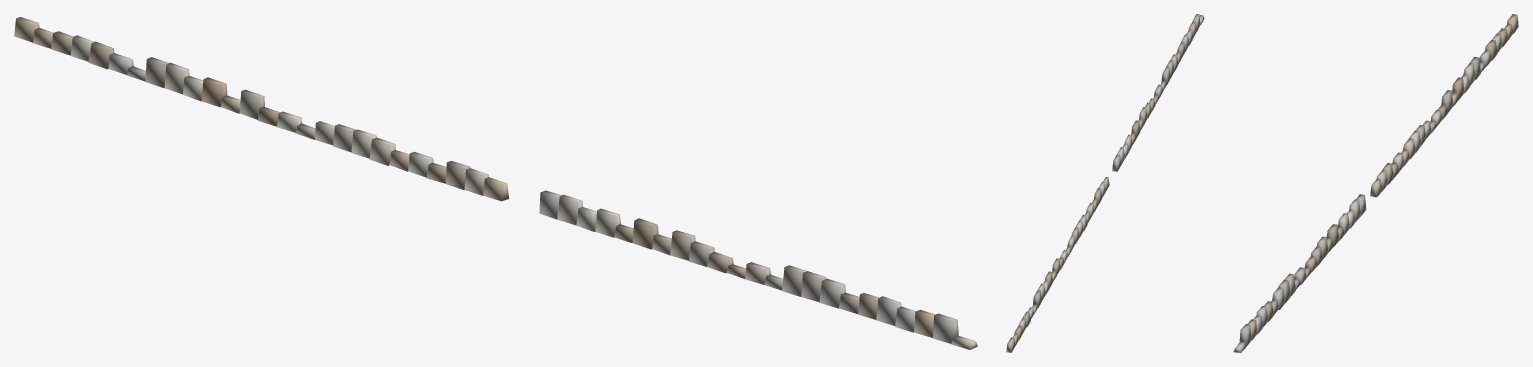
File: farm_-18_-28_far.glb
3 renders of one model, left to right at view 1: azimuth 30°, elevation 25°; view 2: azimuth 150°, elevation 25°; view 3: azimuth 330°, elevation 25°, orthographic. The views are drawn at different scales.
Visible parts, largest first — view 1: geometry_0; view 2: geometry_0; view 3: geometry_0.
Part boxes in pixels (x1,y1,x2,y2): geometry_0: [14, 17, 977, 349]; geometry_0: [1006, 14, 1204, 352]; geometry_0: [1233, 14, 1518, 352].
Size of the model in its own units: 20.03 by 8.32 by 79.24.
